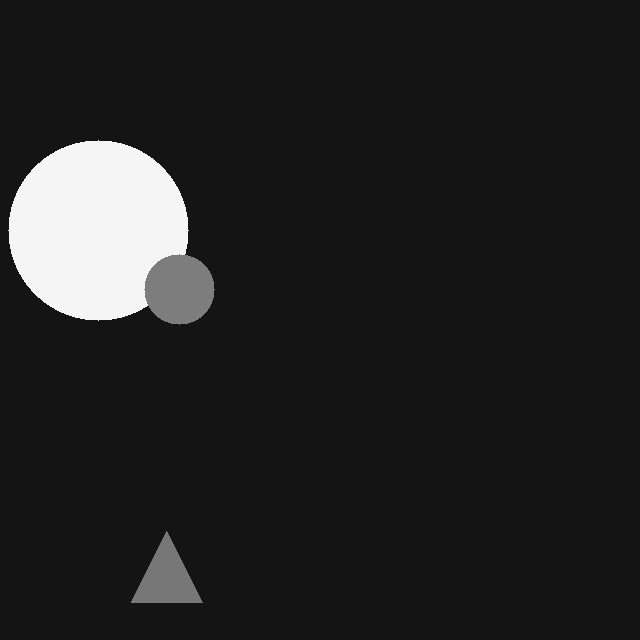circle: (8, 140, 188, 320), (144, 254, 214, 324)
triangle: (131, 531, 202, 602)
